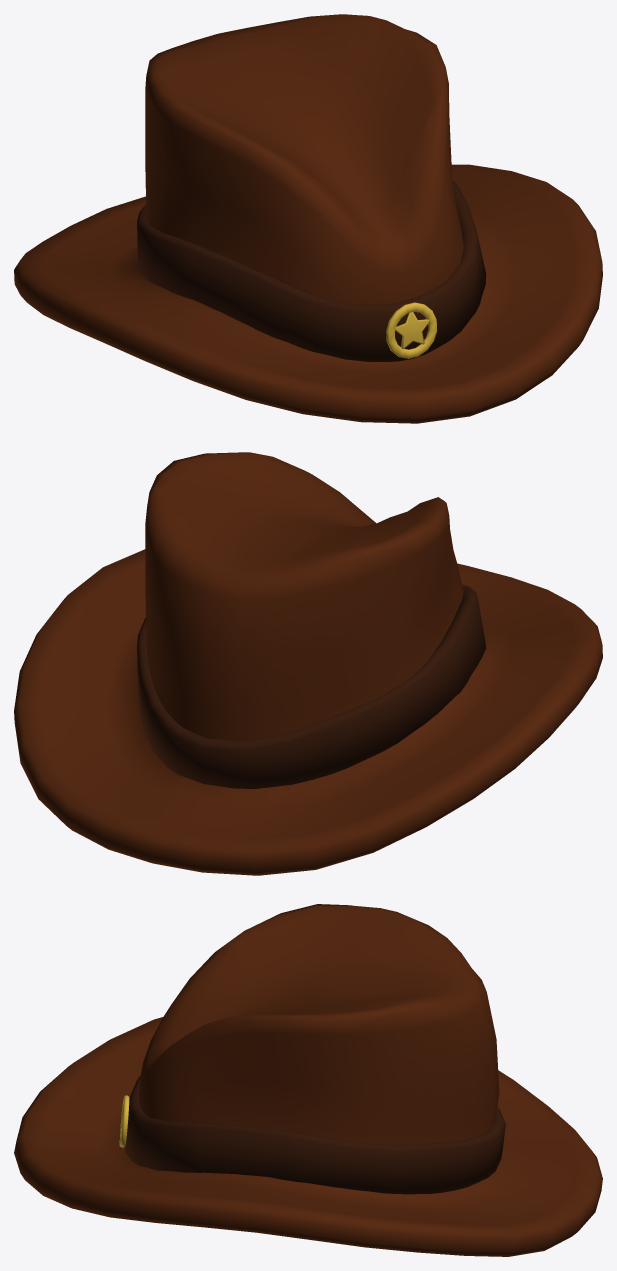
Rendered from hatCowboy.glb.
The picture shows the model from 3 angles, top to bottom: view 1: azimuth 30°, elevation 25°; view 2: azimuth 150°, elevation 25°; view 3: azimuth 270°, elevation 25°; orthographic projection. The views are drawn at different scales.
Parts seen in each view (by area): view 1: hatCowboy; view 2: hatCowboy; view 3: hatCowboy.
Boxes of the visible parts, box(x1,y1,x2,y2) form: hatCowboy: box(14, 14, 602, 423); hatCowboy: box(14, 452, 602, 875); hatCowboy: box(14, 904, 602, 1256).
Size of the model in its own units: 0.6715 by 0.3428 by 0.7718.
